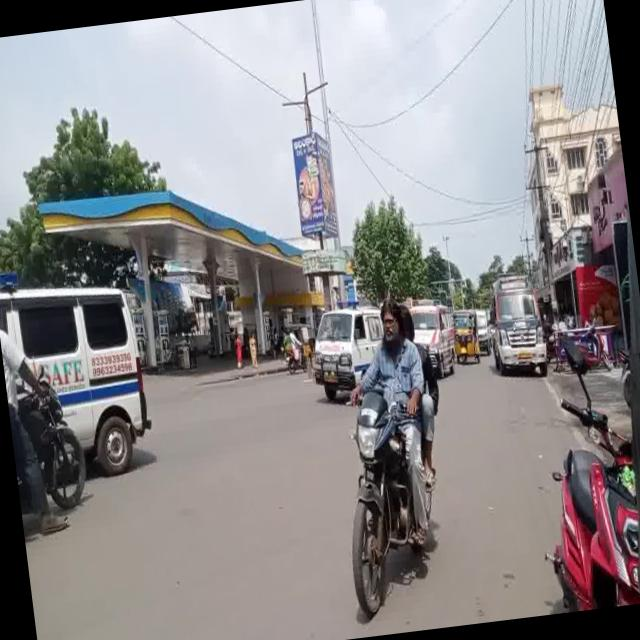ambulance: (10, 278, 154, 408), (485, 271, 556, 380), (302, 302, 373, 389), (416, 285, 444, 394), (464, 313, 485, 352)
